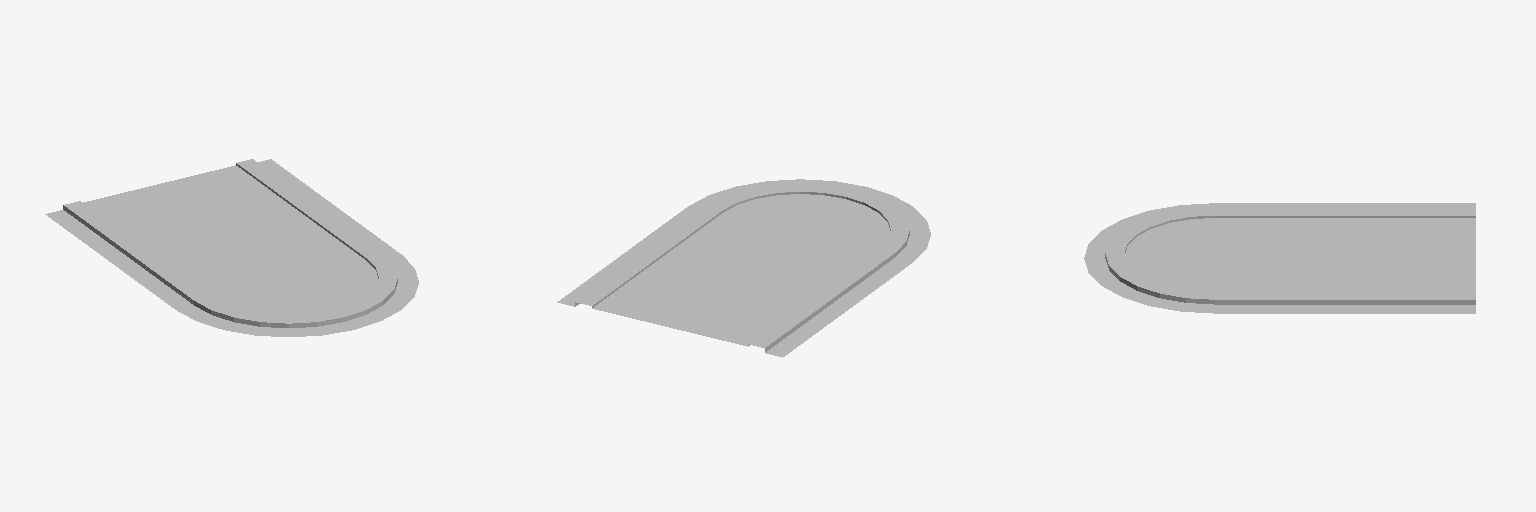
The model's file is roadEnd.obj.
3 renders of one model, left to right at view 1: azimuth 30°, elevation 25°; view 2: azimuth 150°, elevation 25°; view 3: azimuth 270°, elevation 25°, orthographic.
Parts seen in each view (by area): view 1: roadEnd; view 2: roadEnd; view 3: roadEnd.
Boxes of the visible parts, box(x1,y1,x2,y2) form: roadEnd: box(45, 159, 418, 336); roadEnd: box(557, 179, 930, 357); roadEnd: box(1084, 203, 1475, 313).
Size of the model in its own units: 1 by 0.02 by 1.5.